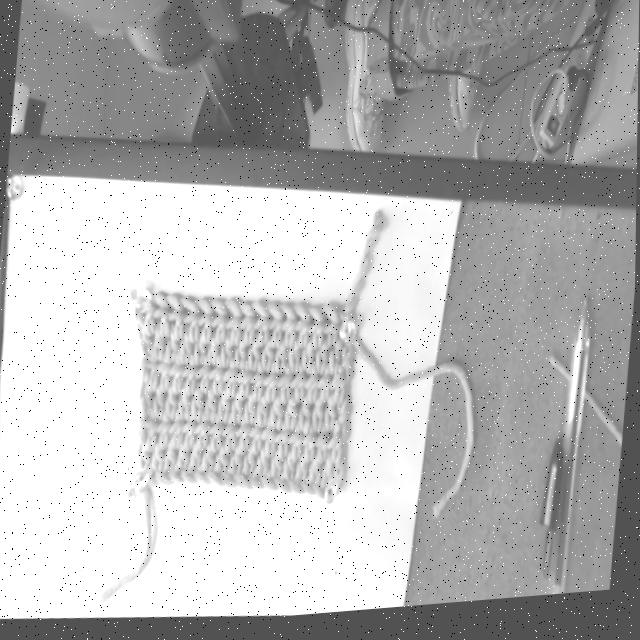ch: (234, 476, 254, 495), (260, 479, 279, 497), (272, 482, 294, 497), (157, 472, 175, 490), (287, 484, 307, 500), (208, 475, 226, 492), (302, 487, 318, 503), (170, 472, 187, 487), (221, 478, 239, 492), (196, 475, 212, 489), (182, 473, 197, 487), (248, 481, 265, 493), (314, 489, 326, 504)
hdc: (277, 308, 299, 353), (195, 303, 216, 348), (264, 307, 284, 354), (150, 295, 171, 339), (180, 301, 201, 345), (166, 298, 186, 344), (252, 305, 272, 351), (320, 308, 339, 354), (239, 308, 258, 353), (223, 415, 241, 462), (292, 310, 311, 354), (210, 305, 228, 349), (289, 368, 306, 413), (261, 419, 277, 465), (226, 304, 242, 350), (183, 358, 200, 401), (308, 313, 325, 355), (195, 414, 212, 455), (209, 416, 226, 455), (331, 371, 348, 410), (170, 413, 186, 454), (302, 368, 318, 409), (251, 366, 267, 407), (239, 364, 255, 405), (289, 426, 304, 468), (237, 418, 252, 460), (278, 368, 293, 410), (276, 426, 292, 465), (224, 361, 240, 400), (209, 360, 225, 399), (218, 385, 232, 429), (170, 356, 185, 397), (183, 415, 198, 455), (192, 384, 206, 426), (303, 429, 318, 468), (206, 382, 219, 427), (196, 357, 211, 396), (327, 435, 344, 469), (174, 445, 192, 477), (271, 393, 285, 434), (265, 370, 280, 408), (250, 419, 264, 459), (286, 394, 299, 437), (188, 443, 204, 477), (316, 429, 329, 470), (166, 326, 179, 367), (158, 414, 172, 451), (140, 386, 155, 420), (331, 343, 344, 382), (300, 398, 312, 440), (149, 446, 165, 477), (163, 444, 178, 477), (166, 386, 179, 424), (318, 370, 331, 408), (255, 453, 272, 482), (159, 355, 171, 396), (153, 323, 165, 364), (322, 459, 336, 494), (180, 330, 193, 367), (228, 449, 244, 479), (269, 453, 285, 483), (306, 462, 323, 490), (313, 397, 324, 439), (153, 388, 166, 423), (258, 399, 271, 433), (262, 343, 275, 377), (326, 400, 337, 440), (146, 421, 159, 454), (276, 345, 288, 380), (245, 398, 258, 430), (317, 346, 329, 380), (216, 448, 230, 476), (201, 448, 216, 474), (284, 455, 297, 485), (249, 341, 260, 376), (289, 346, 300, 381), (235, 343, 247, 375), (138, 418, 148, 456), (195, 335, 206, 369), (222, 335, 233, 369), (244, 452, 257, 480), (303, 346, 314, 379), (179, 389, 189, 425), (150, 356, 160, 392), (233, 394, 243, 429), (297, 458, 309, 487), (139, 447, 152, 473), (208, 334, 218, 367)
